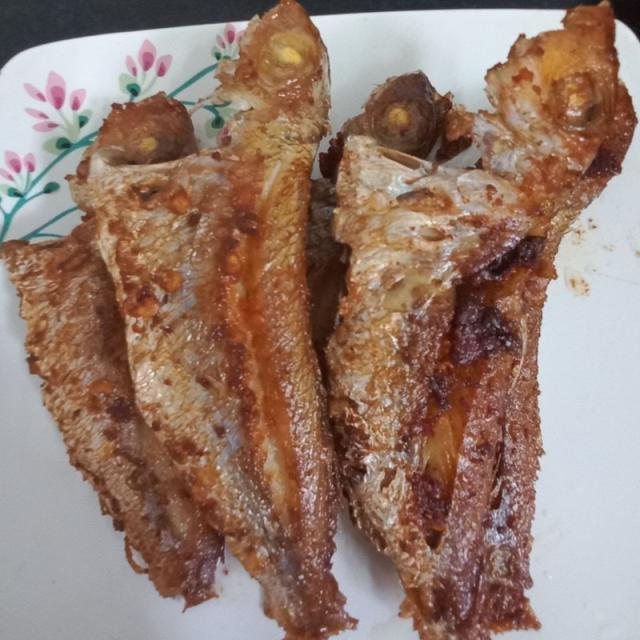ca chien: (2, 0, 634, 639)
